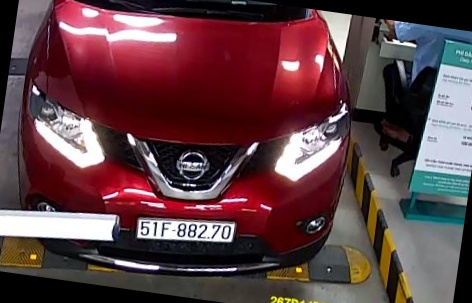plate: (132, 210, 242, 250)
